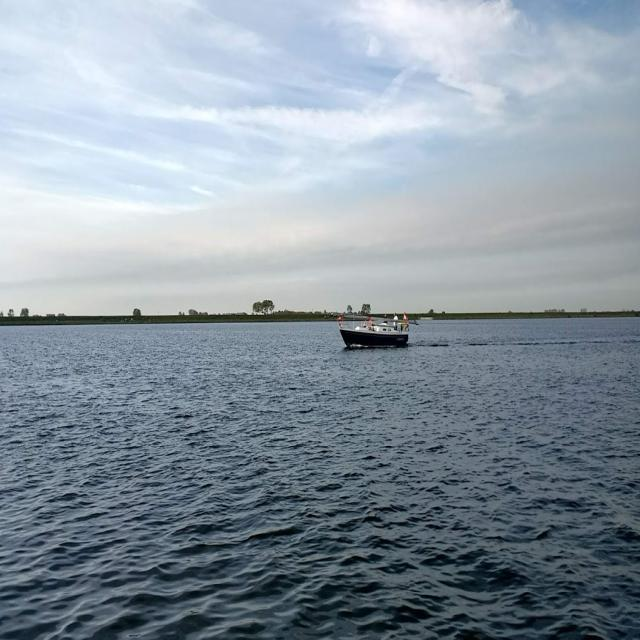houseboat: (337, 305, 413, 354)
